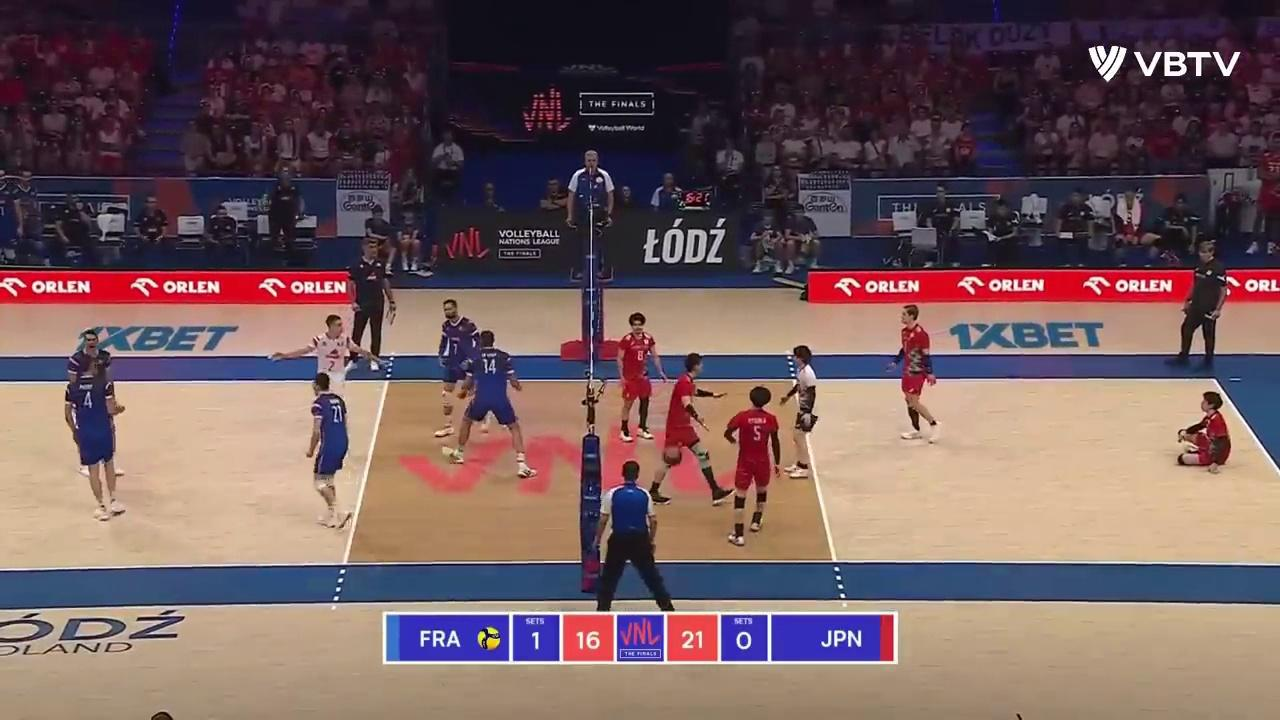ball: (666, 449, 681, 464)
